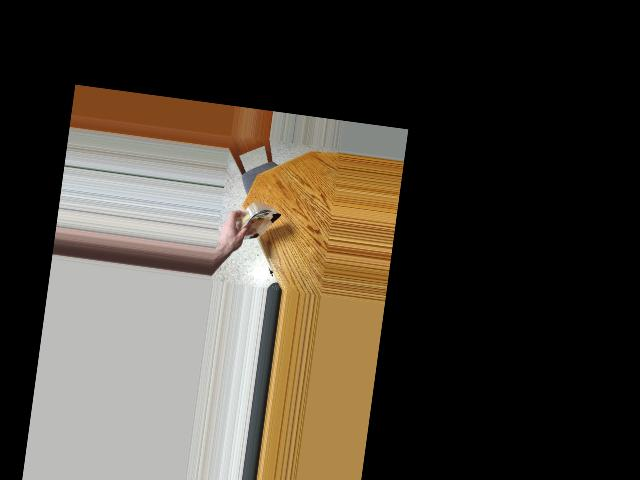cheese: (234, 193, 282, 255)
